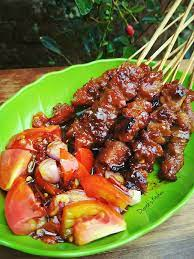sate: (16, 43, 194, 232)
